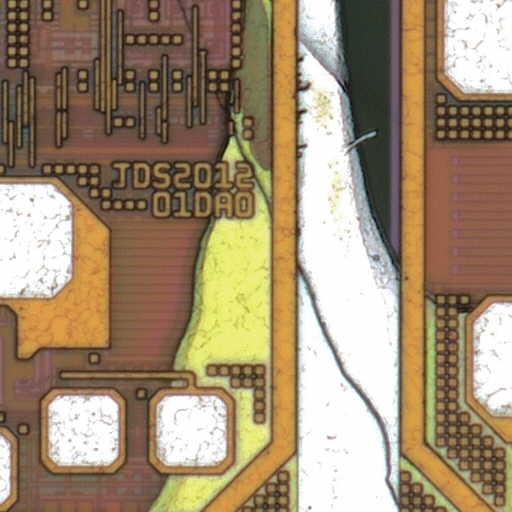BLOCK ETCH: (142, 1, 512, 512)
